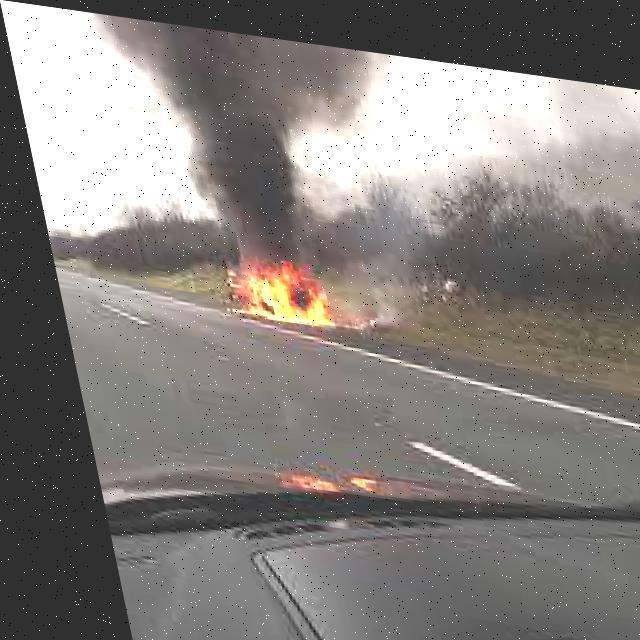Fire: (190, 236, 340, 334)
